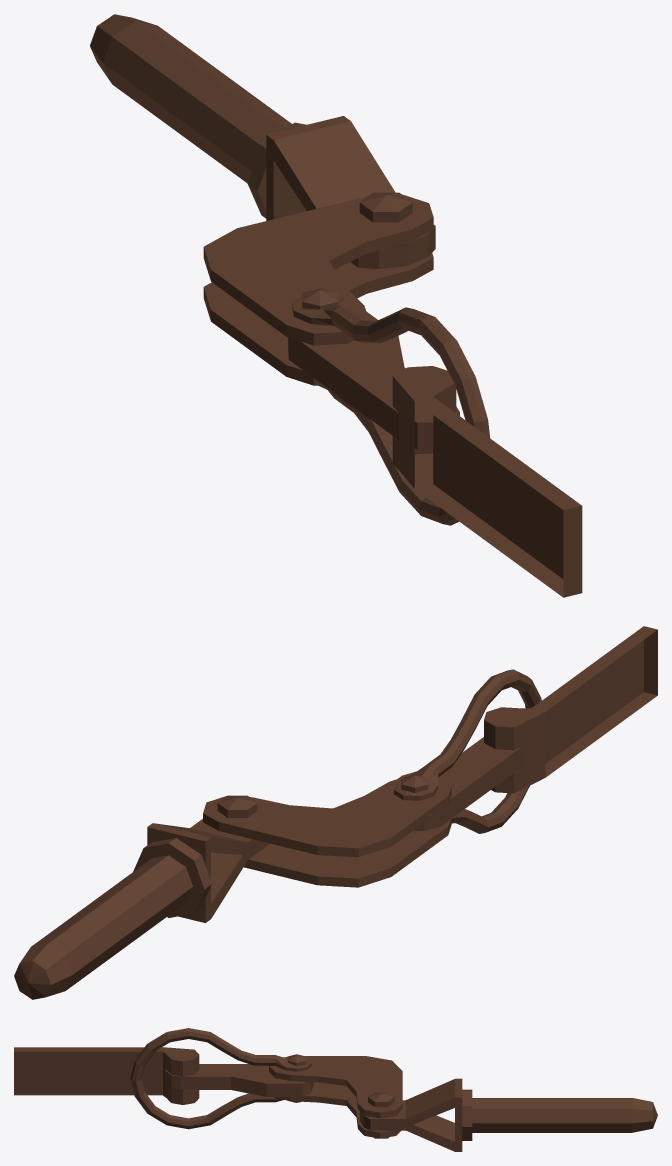
3 views of the same model, one above another, from view 1: azimuth 30°, elevation 25°; view 2: azimuth 150°, elevation 25°; view 3: azimuth 270°, elevation 25° (orthographic). The views are drawn at different scales.
Parts seen in each view (by area): view 1: product-a5177ef5-0268-4a9a-b687-cad15da7f226-body, product-c4d0942a-fdba-40f2-9208-dc60a9db98b8-body, product-65088141-9640-410f-a4c3-0de42c1b00be-body, product-e3ba0b7c-58d1-45ed-b68f-3114fbcde72a-body, product-c7ffdc1f-bbed-4e79-a86b-8c7f4bc34649-body; view 2: product-a5177ef5-0268-4a9a-b687-cad15da7f226-body, product-c4d0942a-fdba-40f2-9208-dc60a9db98b8-body, product-65088141-9640-410f-a4c3-0de42c1b00be-body, product-e3ba0b7c-58d1-45ed-b68f-3114fbcde72a-body, product-c7ffdc1f-bbed-4e79-a86b-8c7f4bc34649-body; view 3: product-a5177ef5-0268-4a9a-b687-cad15da7f226-body, product-65088141-9640-410f-a4c3-0de42c1b00be-body, product-c4d0942a-fdba-40f2-9208-dc60a9db98b8-body, product-e3ba0b7c-58d1-45ed-b68f-3114fbcde72a-body, product-c7ffdc1f-bbed-4e79-a86b-8c7f4bc34649-body.
Part boxes in pixels (box(x1,y1,x2,y2)): product-a5177ef5-0268-4a9a-b687-cad15da7f226-body: box(90, 14, 435, 269); product-c4d0942a-fdba-40f2-9208-dc60a9db98b8-body: box(203, 192, 433, 385); product-65088141-9640-410f-a4c3-0de42c1b00be-body: box(392, 366, 582, 597); product-e3ba0b7c-58d1-45ed-b68f-3114fbcde72a-body: box(292, 288, 489, 525); product-c7ffdc1f-bbed-4e79-a86b-8c7f4bc34649-body: box(288, 311, 459, 449); product-a5177ef5-0268-4a9a-b687-cad15da7f226-body: box(14, 819, 269, 999); product-c4d0942a-fdba-40f2-9208-dc60a9db98b8-body: box(203, 775, 451, 887); product-65088141-9640-410f-a4c3-0de42c1b00be-body: box(484, 626, 657, 793); product-e3ba0b7c-58d1-45ed-b68f-3114fbcde72a-body: box(394, 669, 541, 833); product-c7ffdc1f-bbed-4e79-a86b-8c7f4bc34649-body: box(398, 737, 523, 830); product-a5177ef5-0268-4a9a-b687-cad15da7f226-body: box(359, 1078, 657, 1151); product-65088141-9640-410f-a4c3-0de42c1b00be-body: box(14, 1047, 199, 1104); product-c4d0942a-fdba-40f2-9208-dc60a9db98b8-body: box(269, 1056, 402, 1138); product-e3ba0b7c-58d1-45ed-b68f-3114fbcde72a-body: box(130, 1028, 311, 1129); product-c7ffdc1f-bbed-4e79-a86b-8c7f4bc34649-body: box(165, 1064, 313, 1096).
Bounding box in the file's own units: 0.1239 × 0.1006 × 0.5823.
